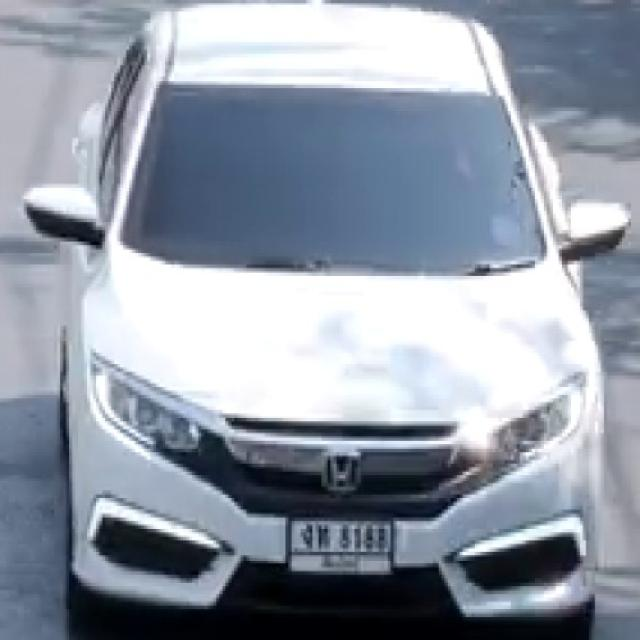plate: (287, 512, 395, 582)
